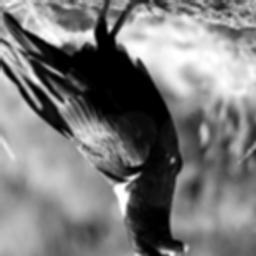Crow: (0, 0, 195, 256)
